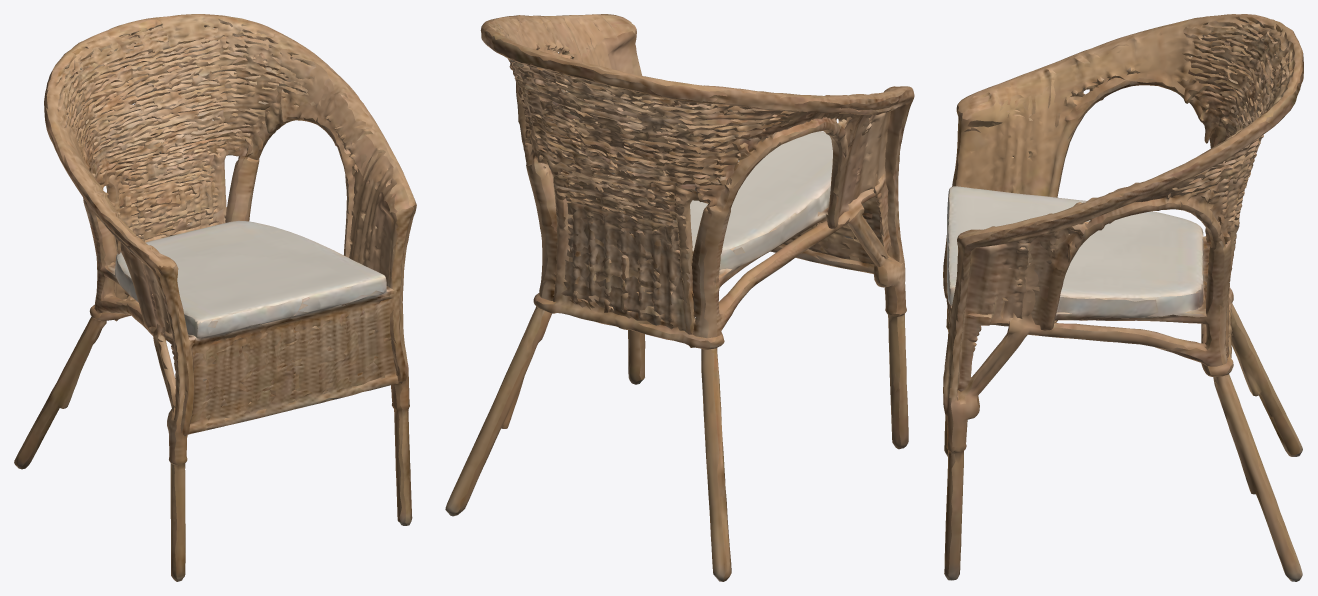
3 renders of one model, left to right at view 1: azimuth 30°, elevation 25°; view 2: azimuth 150°, elevation 25°; view 3: azimuth 270°, elevation 25°, orthographic. The views are drawn at different scales.
Parts seen in each view (by area): view 1: Orientation correction; view 2: Orientation correction; view 3: Orientation correction.
Part boxes in pixels (bbox=[...]): Orientation correction: bbox=[14, 14, 416, 581]; Orientation correction: bbox=[445, 14, 914, 581]; Orientation correction: bbox=[943, 14, 1303, 581].
Size of the model in its own units: 0.58 by 0.79 by 0.56.
1 material, 1 textured.
